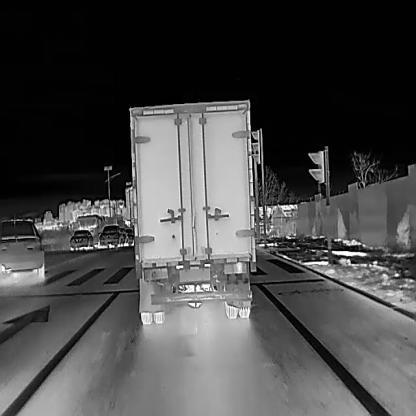car: (128, 98, 256, 324), (0, 213, 44, 276), (73, 214, 108, 245), (97, 224, 123, 247), (68, 229, 93, 251)
